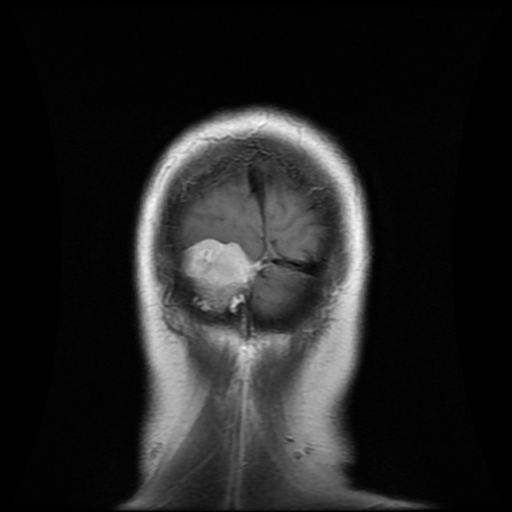meningioma: (180, 238, 262, 314)
